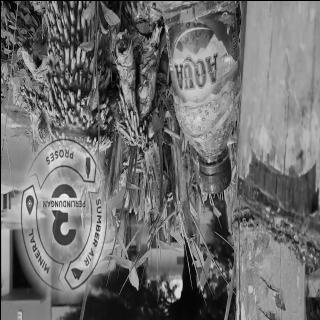plastic_bottles: (160, 0, 245, 191)
